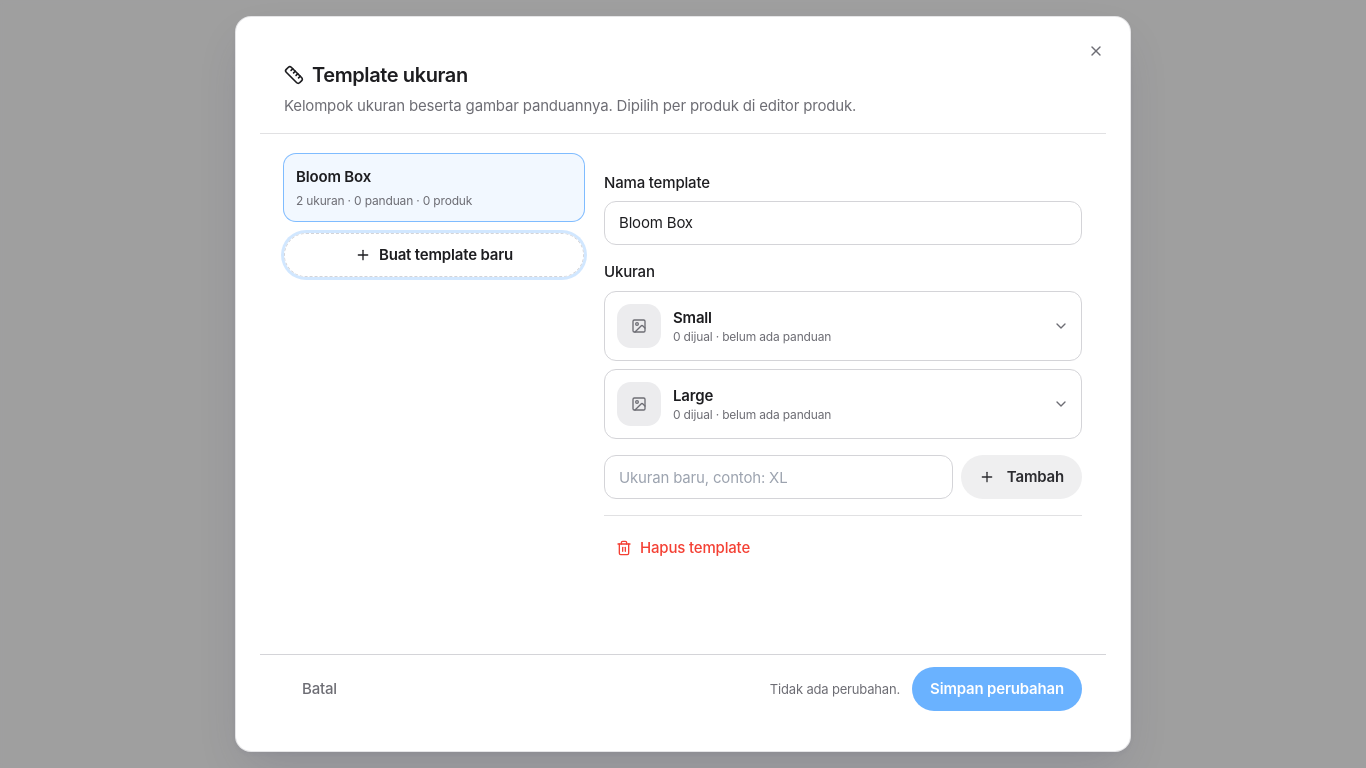
it: Template ukuran manager › lists templates first, opens one, and keeps each size collapsed until tapped
The width and height of the screenshot is (1366, 768).
Click the button "Bloom Box 2 ukuran · 0 panduan · 0 produk". click: click(334, 177)
box: [284, 154, 584, 221]
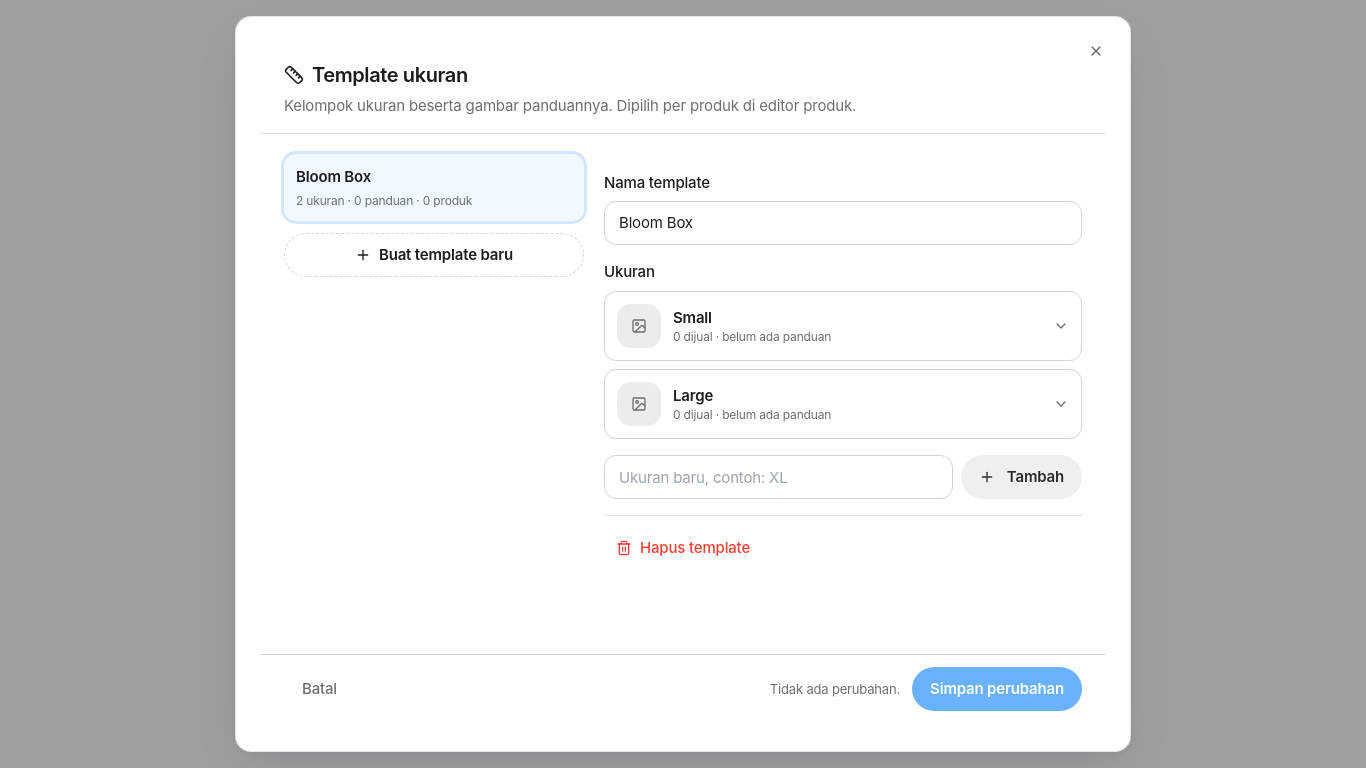
Click the button "Small 0 dijual · belum ada panduan". click: click(639, 326)
box: [605, 292, 1081, 360]
(page scrolled)
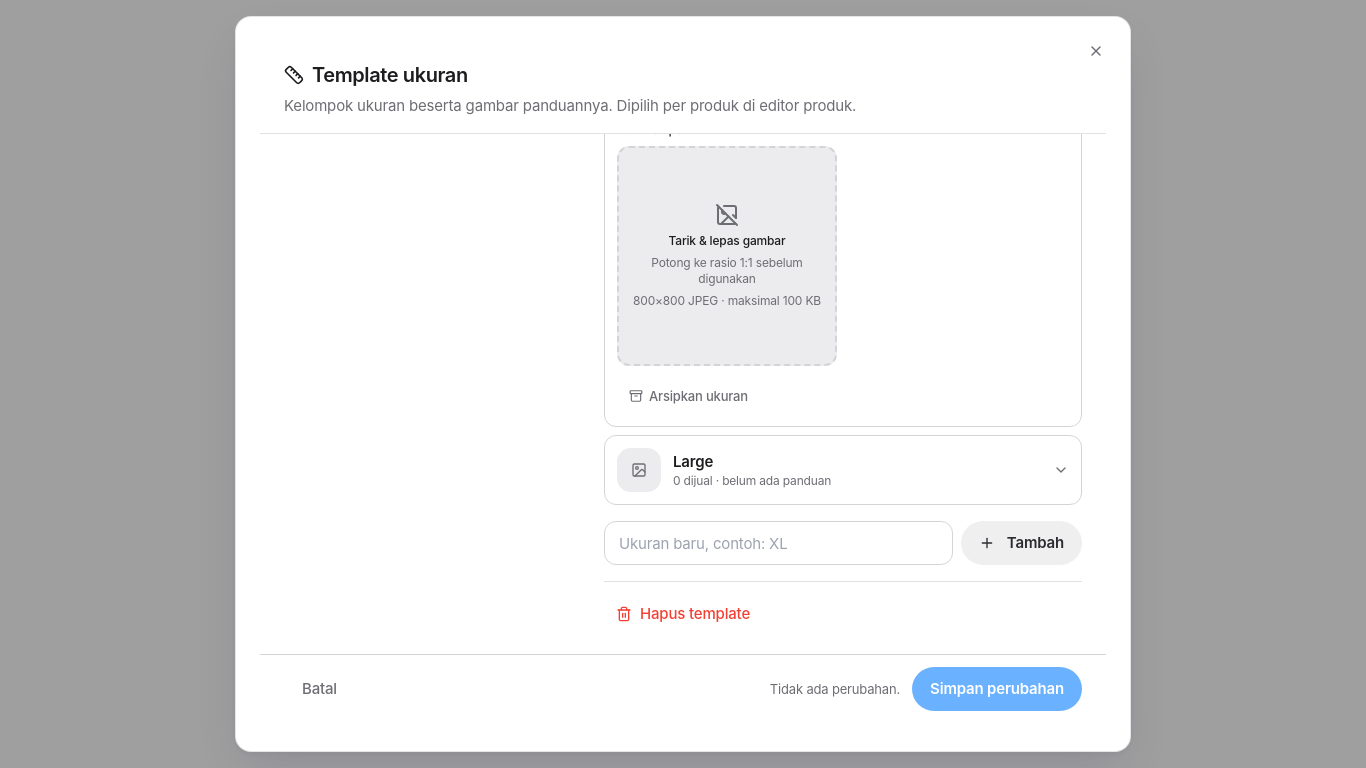
// Opening another size closes the first one.
Click the button "Large 0 dijual · belum ada panduan". click: click(639, 470)
box: [605, 436, 1081, 504]
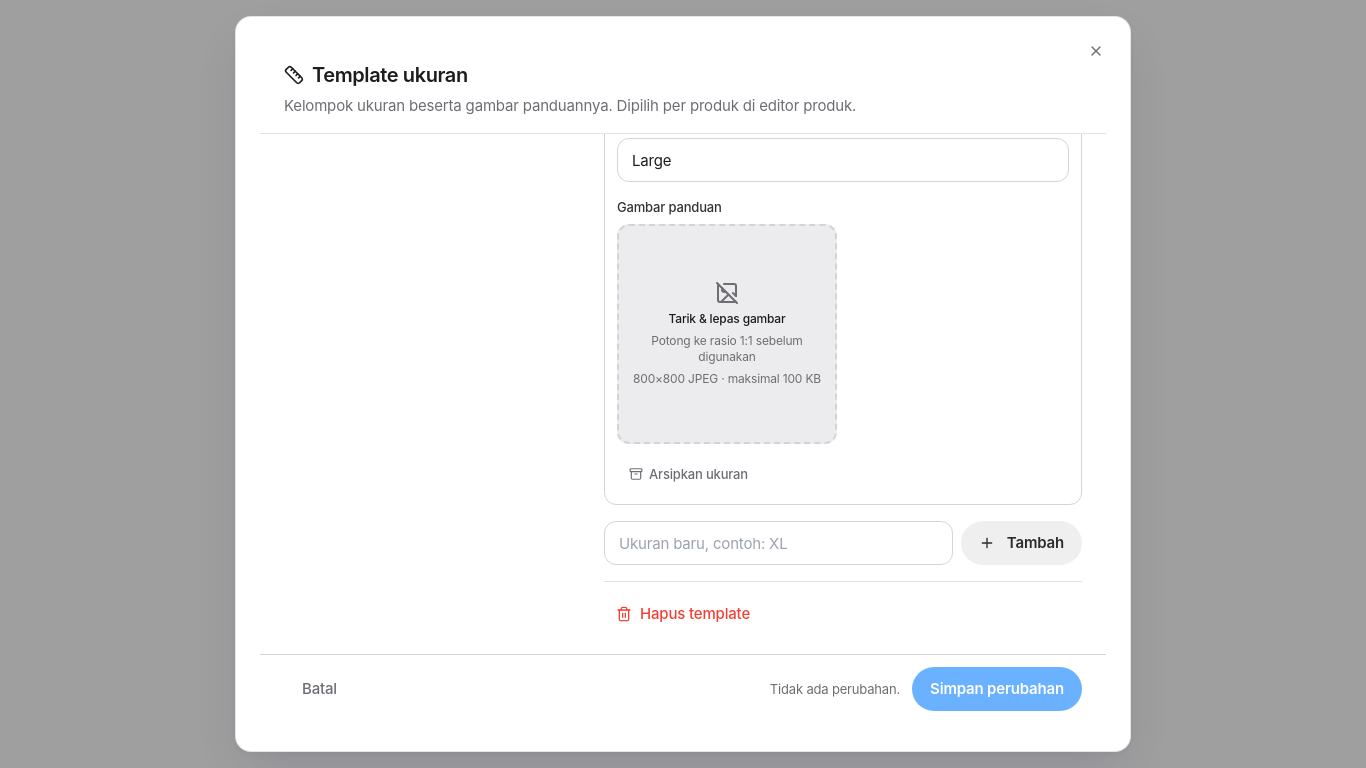
Expected: the button showing "Small" is not shown
Expected: the field showing "Large" is shown, [617, 138, 1069, 182]
